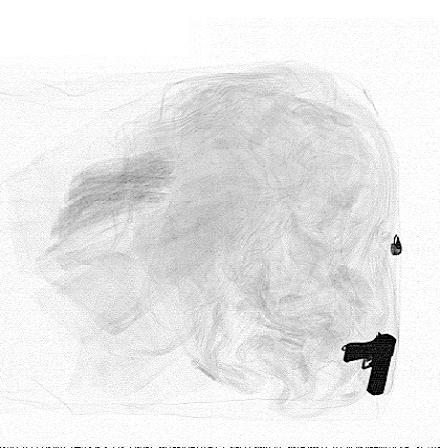Gun: (344, 331, 399, 396)
